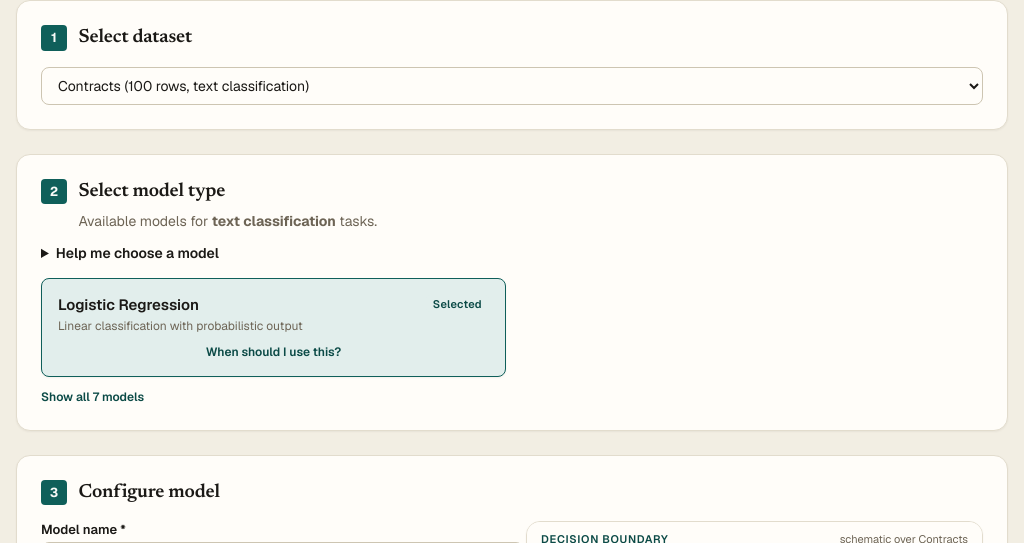
Test: ModelCreateWizard › shows only the chosen model until asked for the rest
Click the button "Show all 7 models". click: {"x": 93, "y": 397}
box: [41,389,144,405]
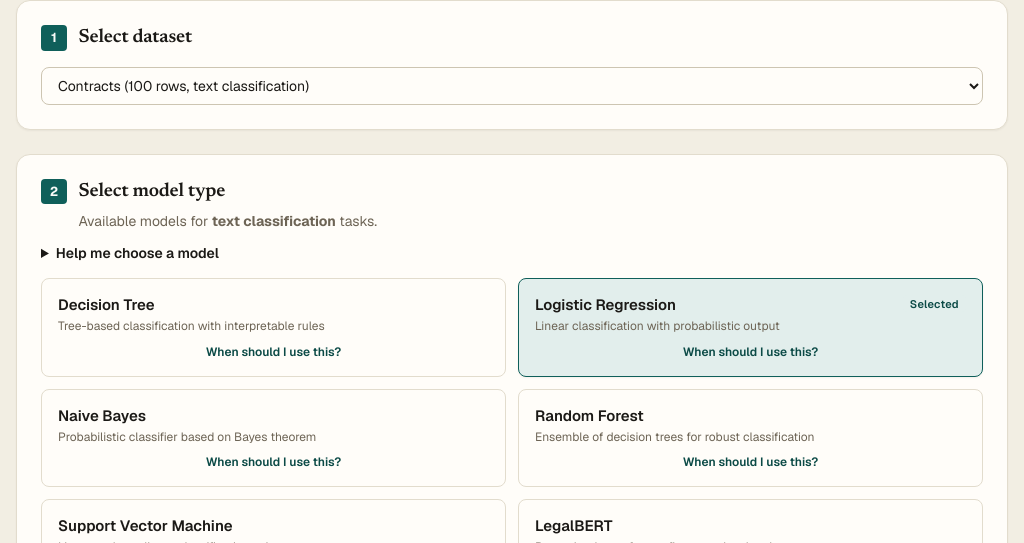
Now the text "Support Vector Machine" is shown, box [58,516,233,535]
